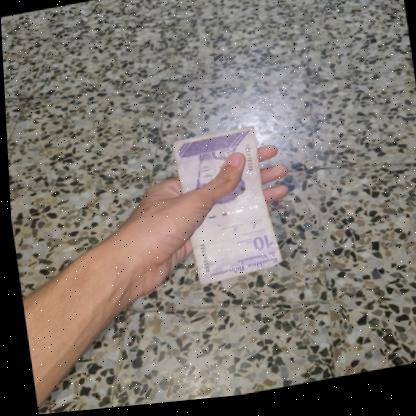ten-front-vef: (168, 128, 280, 291)
